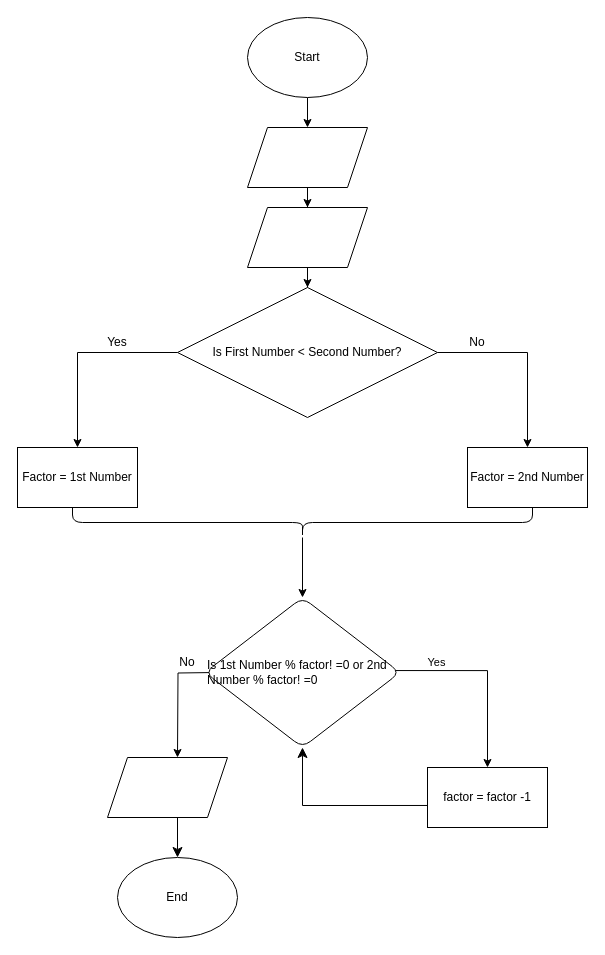
This 605x955 diagram has some shape labels left out. The box of each missing label's shape, as (x1, y1, x2, y2) in pixels:
Input First Number: (246, 126, 368, 188)
Input Second Number: (246, 206, 368, 268)
Show Factor: (106, 756, 228, 818)
